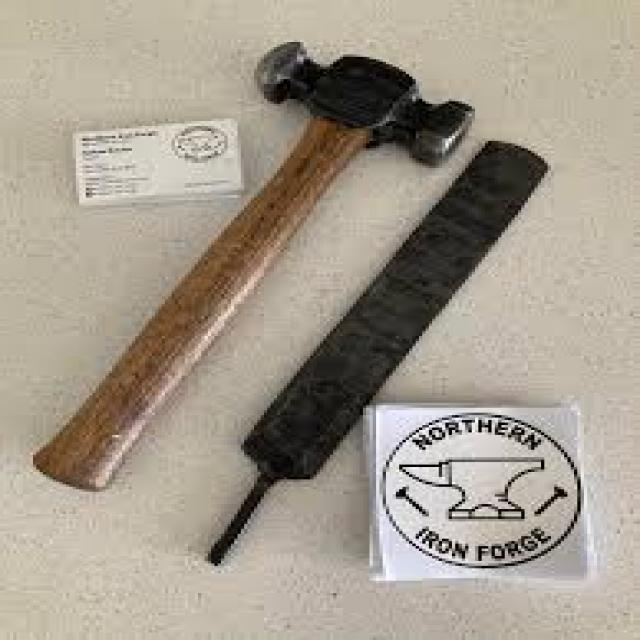hammer: (26, 33, 482, 498)
